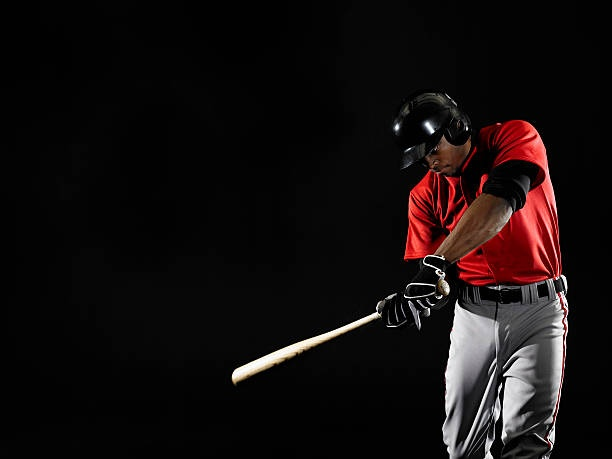bita: (225, 293, 433, 386)
